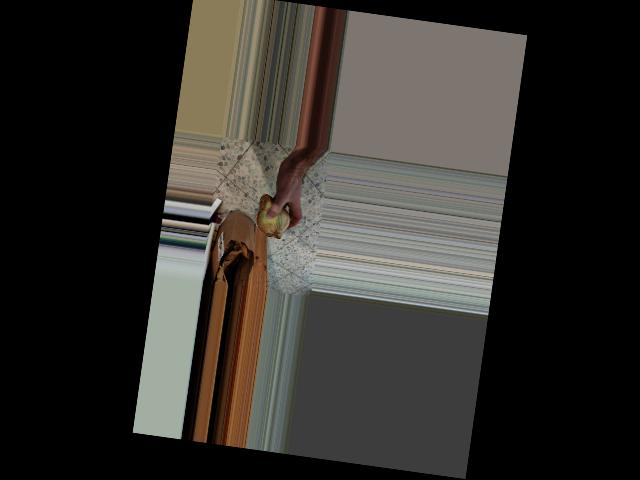onion: (252, 191, 296, 240)
